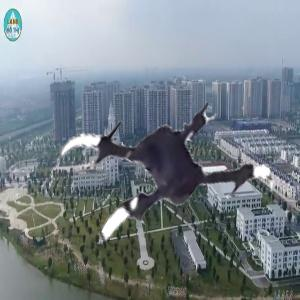drone: (51, 73, 273, 295)
